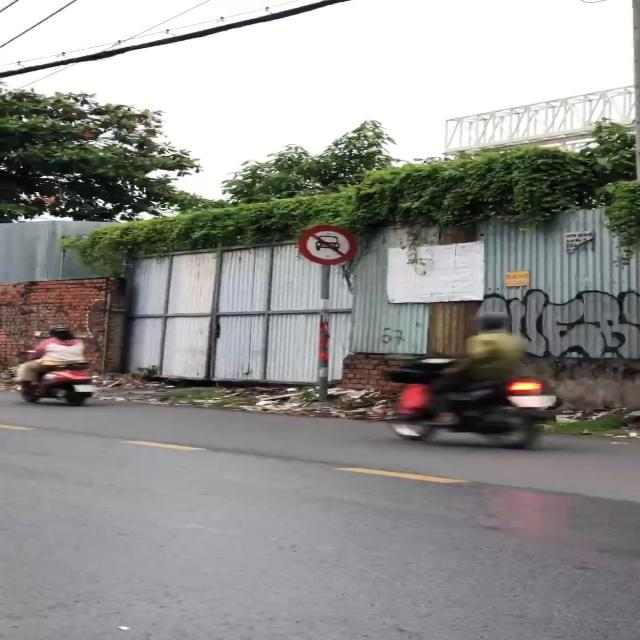Bien bao cam xe oto: (296, 224, 364, 266)
